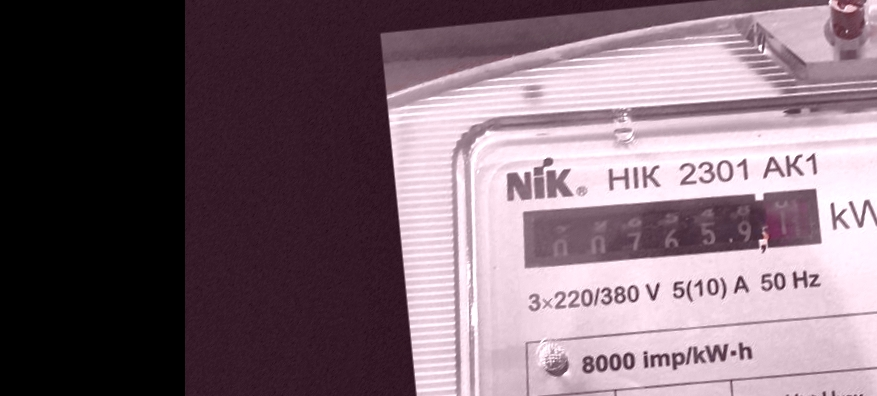0: (588, 232, 609, 259), (550, 235, 570, 262)
1: (775, 207, 792, 240)
5: (696, 219, 721, 248)
6: (661, 226, 682, 251)
7: (624, 229, 646, 256)
9: (734, 218, 755, 246)
screen: (509, 170, 835, 291)
